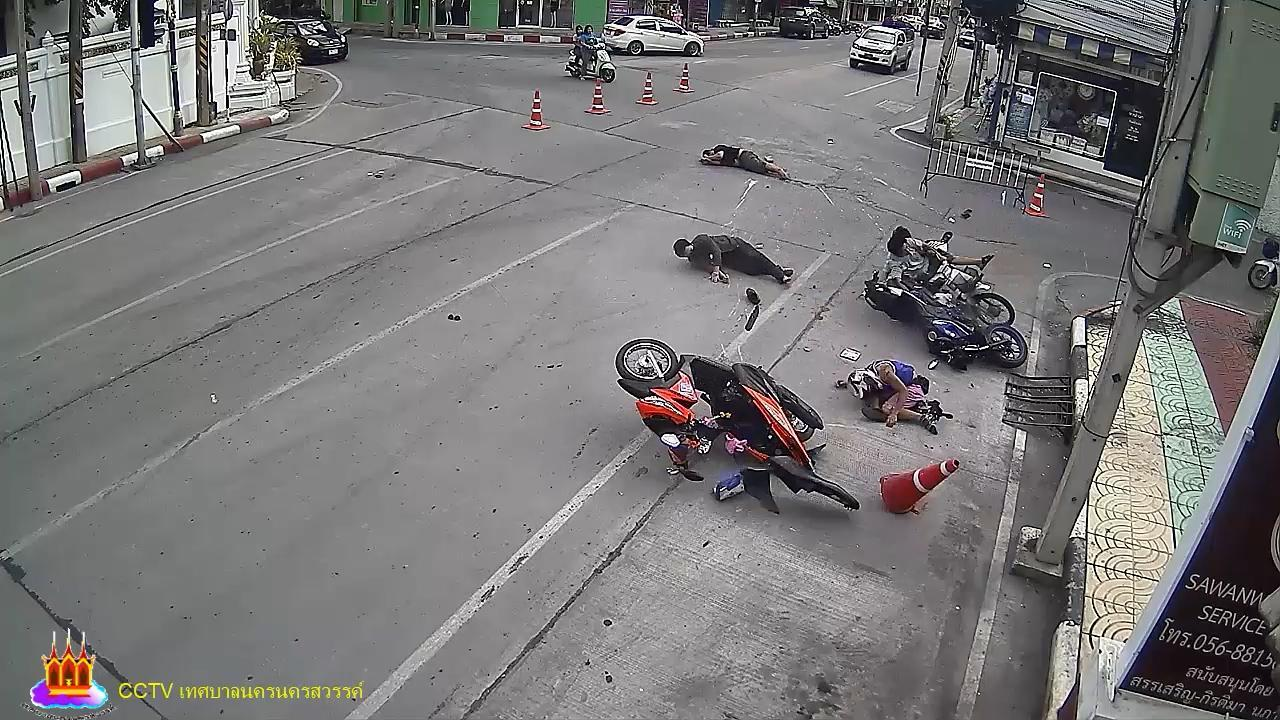accident: (845, 360, 948, 436), (671, 234, 795, 288), (884, 235, 994, 294), (697, 142, 794, 183)
